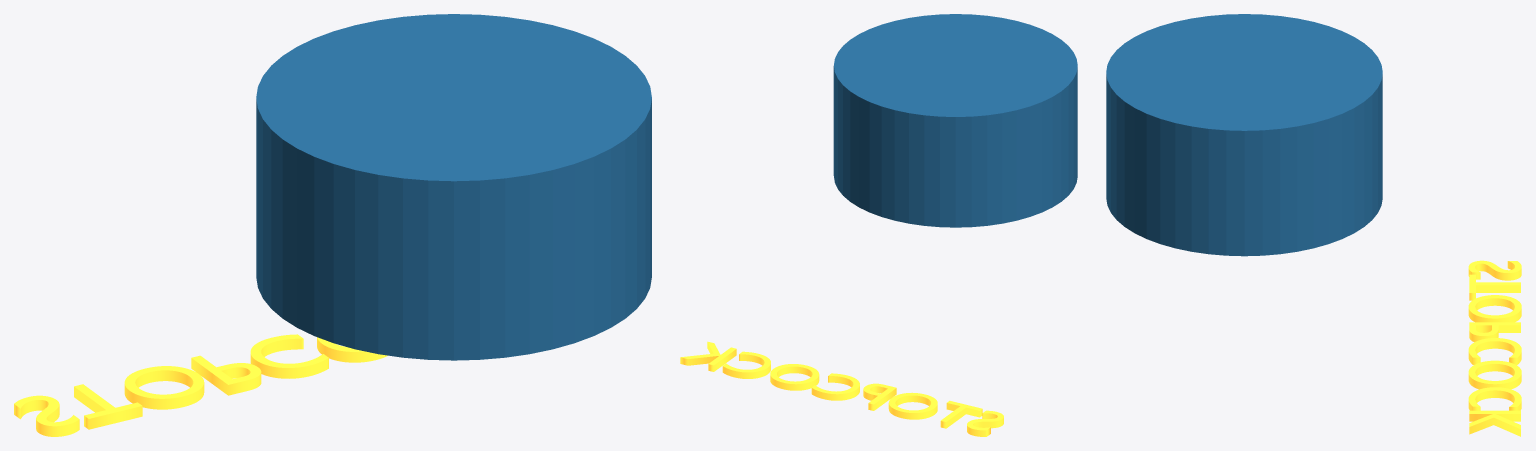
The model's file is STOPCOCK.glb.
The picture shows the model from 3 angles, left to right: view 1: azimuth 30°, elevation 25°; view 2: azimuth 150°, elevation 25°; view 3: azimuth 270°, elevation 25°; orthographic projection. The views are drawn at different scales.
Parts seen in each view (by area): view 1: STOPCOCK, LABEL_STOPCOCK; view 2: STOPCOCK, LABEL_STOPCOCK; view 3: STOPCOCK, LABEL_STOPCOCK.
Boxes of the visible parts, bbox=[...] form: STOPCOCK: bbox=[256, 14, 651, 360]; LABEL_STOPCOCK: bbox=[14, 334, 387, 436]; STOPCOCK: bbox=[833, 14, 1077, 227]; LABEL_STOPCOCK: bbox=[680, 341, 1003, 436]; STOPCOCK: bbox=[1106, 14, 1382, 256]; LABEL_STOPCOCK: bbox=[1468, 260, 1521, 436].
Size of the model in its own units: 0.2887 by 0.223 by 0.3005.
